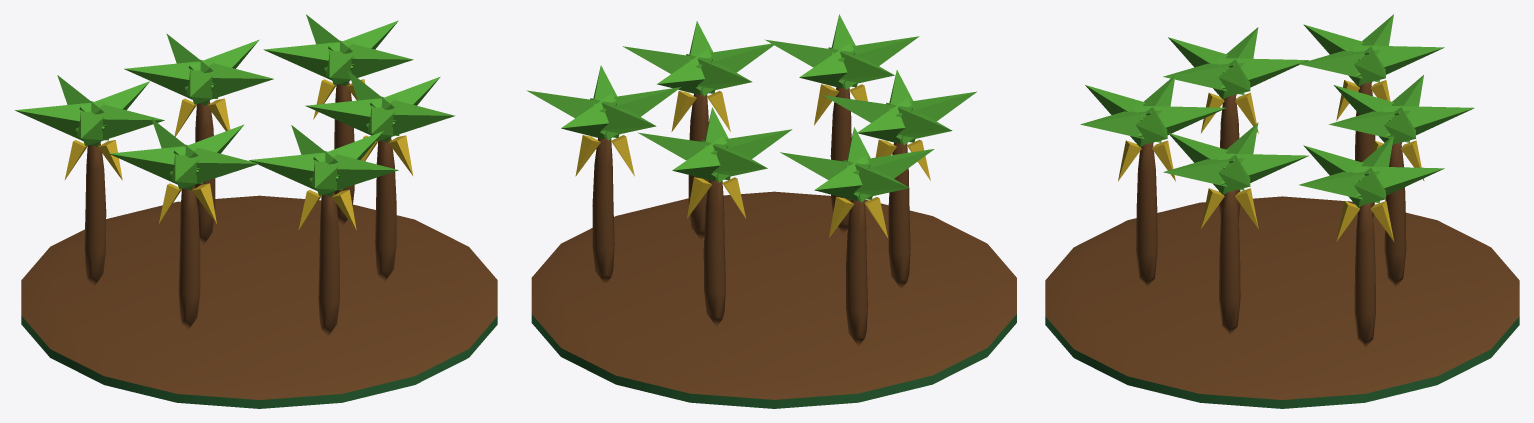
The picture shows the model from 3 angles, left to right: view 1: azimuth 30°, elevation 25°; view 2: azimuth 150°, elevation 25°; view 3: azimuth 270°, elevation 25°; orthographic projection. The views are drawn at different scales.
Visible parts, largest first — view 1: fazenda_0_base, fazenda_1_torreta; view 2: fazenda_0_base, fazenda_1_torreta; view 3: fazenda_0_base, fazenda_1_torreta.
Part boxes in pixels (x1,y1,x2,y2): fazenda_0_base: (21, 195, 497, 408); fazenda_1_torreta: (15, 14, 455, 336); fazenda_0_base: (531, 191, 1016, 408); fazenda_1_torreta: (526, 14, 976, 346); fazenda_0_base: (1045, 196, 1519, 408); fazenda_1_torreta: (1080, 14, 1474, 348).
Size of the model in its own units: 1.28 by 0.5951 by 1.26.
